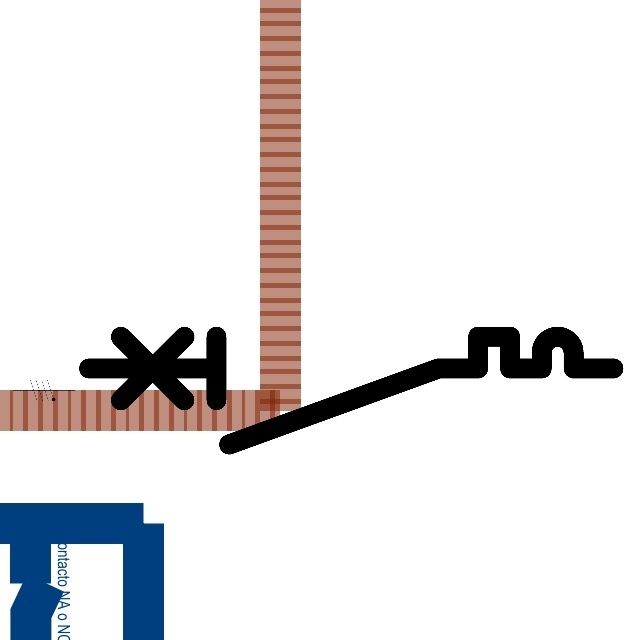interruptor_termomagnetico: (75, 323, 626, 458)
